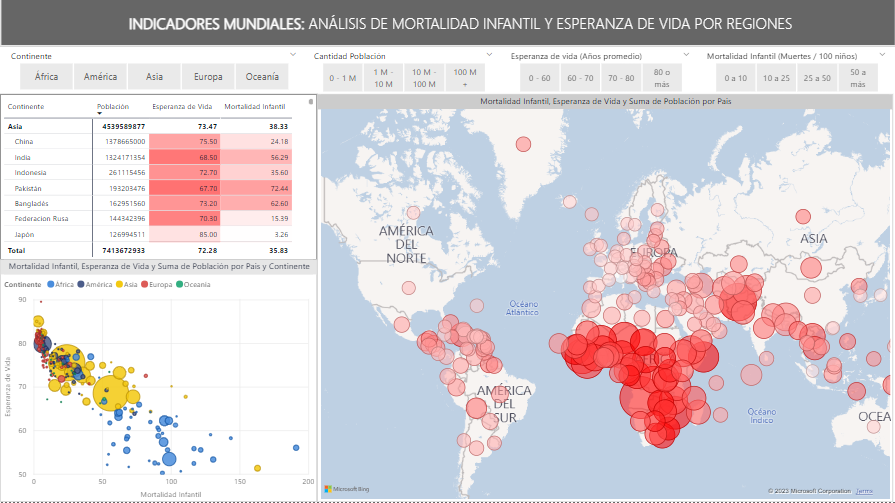

This screenshot's page, from the dashboard's own definition file:
{"tool":"powerbi","page":{"name":"Indicadores Mundiales","canvas":[1280,720],"ordinal":1},"visuals":[{"type":"pivotTable","fields":{"Rows":["Paises.Continente","Paises.Pais"],"Values":["Sum(Population.Population)","Avg(Esperanza de Vida.Esperanza de Vida)","Avg(Mortalidad Infantil.Mortalidad Infantil)"]},"box":[0,136.7,453.3,236.7],"z":0},{"type":"slicer","fields":{"Values":["Population.Cantidad Población"]},"box":[435.7,68.4,280.8,69.1],"z":1000},{"type":"slicer","fields":{"Values":["Paises.Continente"]},"box":[2.3,68.4,433.4,69.1],"z":2000},{"type":"map","fields":{"Size":["Avg(Mortalidad Infantil.Mortalidad Infantil)"],"Category":["Paises.Jerarquía Continente País.Continente","Paises.Jerarquía Continente País.Pais"]},"box":[453.3,136.7,823.3,583.3],"z":3000},{"type":"slicer","fields":{"Values":["Esperanza de Vida.Esperanza de vida (Años promedio)"]},"box":[716.5,68.4,280.8,69.1],"z":4000},{"type":"slicer","fields":{"Values":["Mortalidad Infantil.Mortalidad Infantil (Muertes / 100 niños)"]},"box":[997.3,68.4,280.8,69.1],"z":5000},{"type":"scatterChart","fields":{"X":["Avg(Mortalidad Infantil.Mortalidad Infantil)"],"Y":["Avg(Esperanza de Vida.Esperanza de Vida)"],"Series":["Paises.Continente"],"Size":["Sum(Población.Población)"],"Category":["Paises.Jerarquía Continente País.Continente","Paises.Jerarquía Continente País.Pais"]},"box":[0,373.3,453.3,346.7],"z":6000},{"type":"shape","box":[0,0,1280.2,69.1],"z":7000},{"type":"textbox","box":[80.6,15.8,1156.3,44.6],"z":8000}]}

Visuals, with their boxes in screenshot pixels (x1, y1, x2, y2), scaled from the page's 1280x720 canvas onto the 895x503 screenshot:
pivotTable - Paises.Continente x Paises.Pais: left=0, top=96, right=317, bottom=261
slicer - Population.Cantidad Población: left=305, top=48, right=501, bottom=96
slicer - Paises.Continente: left=2, top=48, right=305, bottom=96
map - Avg(Mortalidad Infantil.Mortalidad Infantil) x Paises.Jerarquía Continente País.Continente: left=317, top=96, right=893, bottom=502
slicer - Esperanza de Vida.Esperanza de vida (Años promedio): left=501, top=48, right=697, bottom=96
slicer - Mortalidad Infantil.Mortalidad Infantil (Muertes / 100 niños): left=697, top=48, right=894, bottom=96
scatterChart - Avg(Mortalidad Infantil.Mortalidad Infantil) x Avg(Esperanza de Vida.Esperanza de Vida): left=0, top=261, right=317, bottom=502
shape: left=0, top=0, right=894, bottom=48
textbox: left=56, top=11, right=865, bottom=42
